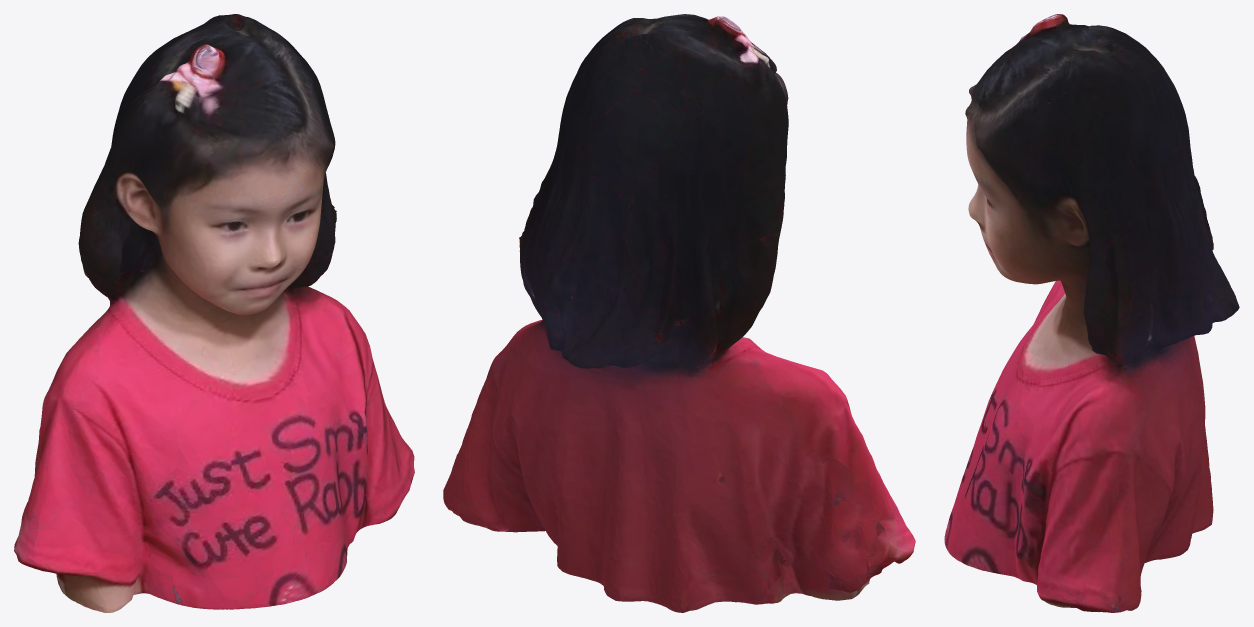
The model's file is 真人头像_女_儿童01_opt.glb.
The picture shows the model from 3 angles, left to right: view 1: azimuth 30°, elevation 25°; view 2: azimuth 150°, elevation 25°; view 3: azimuth 270°, elevation 25°; orthographic projection. The views are drawn at different scales.
Visible parts, largest first — view 1: Object_2; view 2: Object_2; view 3: Object_2.
Boxes of the visible parts, box(x1,y1,x2,y2) form: Object_2: box(14, 14, 414, 612); Object_2: box(443, 14, 915, 612); Object_2: box(944, 14, 1239, 612).
Bounding box in the file's own units: 0.2521 × 0.3 × 0.1563.
Materials: 1 (1 with a texture image).
